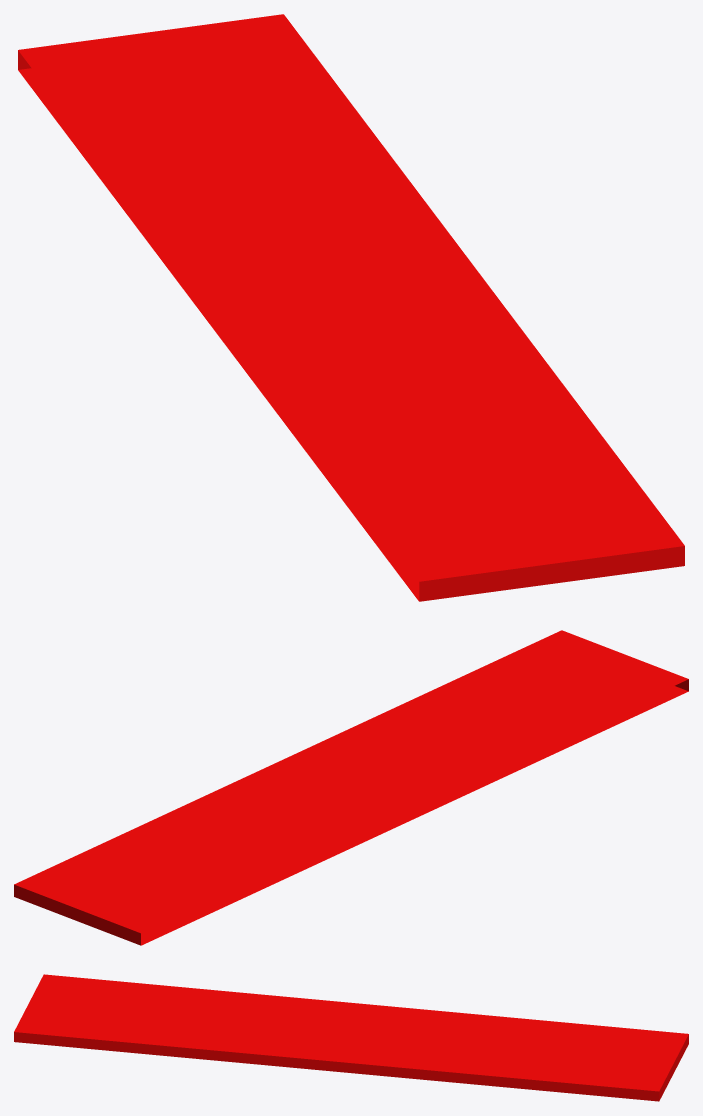
File: WitchShop_Shelve2.fbx
3 views of the same model, one above another, from view 1: azimuth 30°, elevation 25°; view 2: azimuth 150°, elevation 25°; view 3: azimuth 270°, elevation 25° (orthographic). The views are drawn at different scales.
Visible parts, largest first — view 1: Shelve2; view 2: Shelve2; view 3: Shelve2.
Part boxes in pixels (box(x1,y1,x2,y2)): Shelve2: box(18, 14, 684, 601); Shelve2: box(14, 630, 688, 945); Shelve2: box(14, 974, 688, 1101).
Size of the model in its own units: 90.15 by 3.6 by 220.
